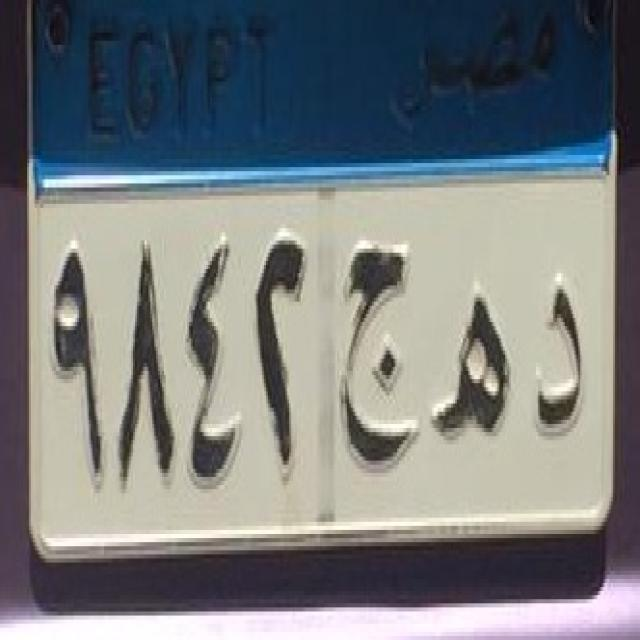2: (248, 227, 318, 478)
4: (180, 233, 246, 498)
8: (112, 238, 182, 500)
9: (46, 240, 110, 496)
Heeh: (428, 284, 522, 450)
daal: (522, 266, 594, 454)
geem: (332, 235, 425, 489)
